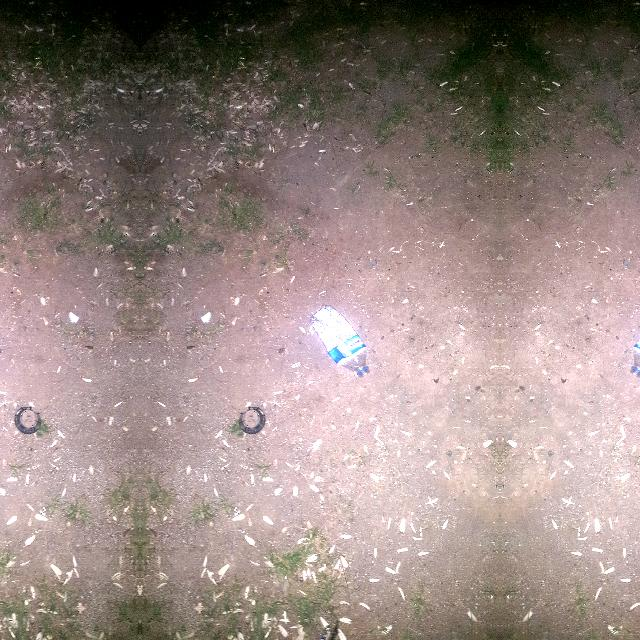Plastic: (304, 300, 386, 382), (614, 300, 640, 381)
